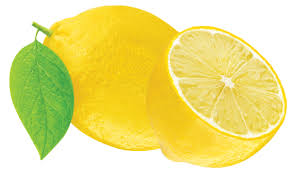Lemon: (28, 3, 180, 155)
